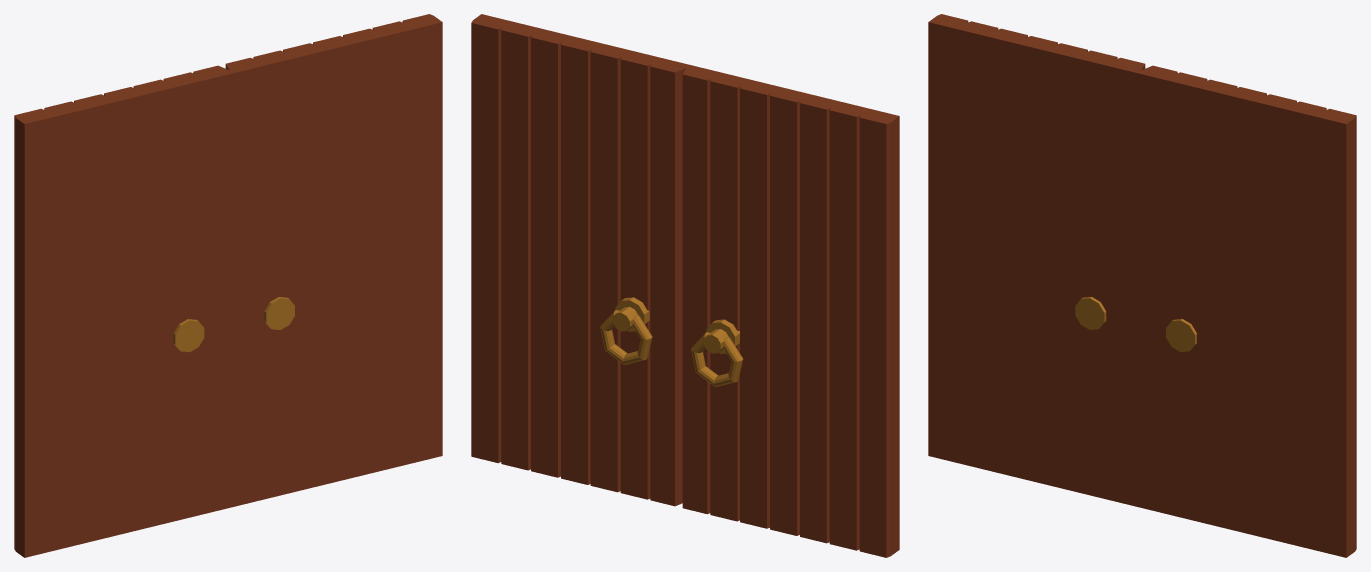
The model's file is Door.fbx.
3 renders of one model, left to right at view 1: azimuth 30°, elevation 25°; view 2: azimuth 150°, elevation 25°; view 3: azimuth 330°, elevation 25°, orthographic.
Parts seen in each view (by area): view 1: Cylinder.001; view 2: Cylinder.001; view 3: Cylinder.001.
Boxes of the visible parts, bbox=[...] form: Cylinder.001: bbox=[14, 14, 442, 557]; Cylinder.001: bbox=[471, 14, 899, 557]; Cylinder.001: bbox=[928, 14, 1356, 557].
Size of the model in its own units: 409 by 406 by 43.95.
